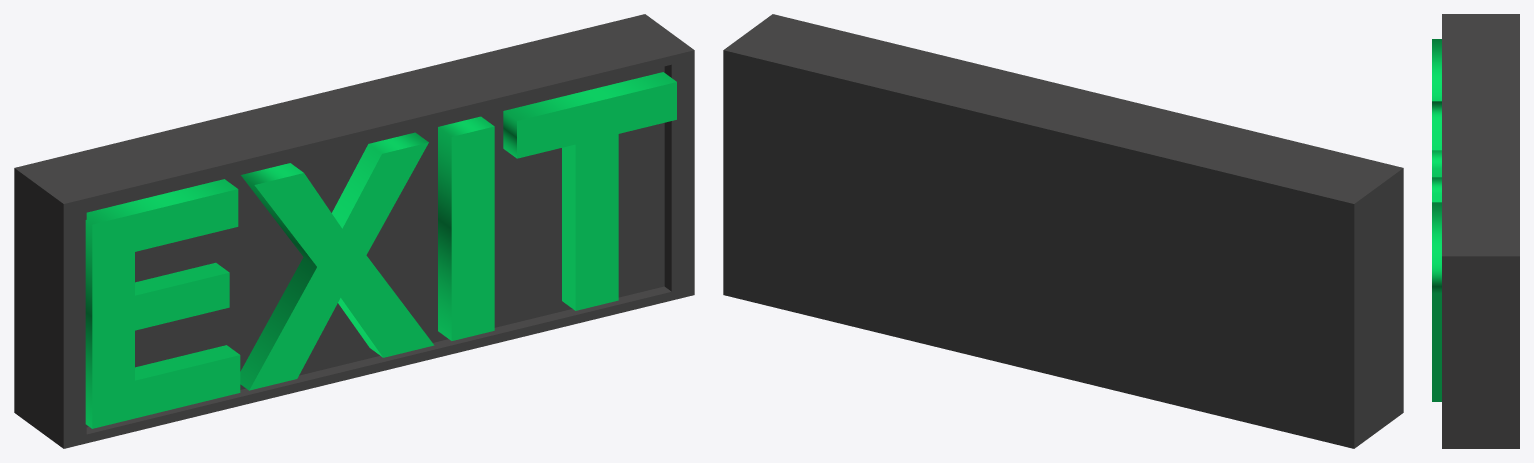
The model's file is exit_sign.fbx.
3 renders of one model, left to right at view 1: azimuth 30°, elevation 25°; view 2: azimuth 150°, elevation 25°; view 3: azimuth 270°, elevation 25°, orthographic. The views are drawn at different scales.
Parts seen in each view (by area): view 1: Cube.002; view 2: Cube.002; view 3: Cube.002.
Boxes of the visible parts, left/top/right/bottom form: Cube.002: left=14, top=14, right=694, bottom=448; Cube.002: left=723, top=14, right=1403, bottom=448; Cube.002: left=1432, top=14, right=1519, bottom=448.
Size of the model in its own units: 142 by 52.76 by 21.81.
